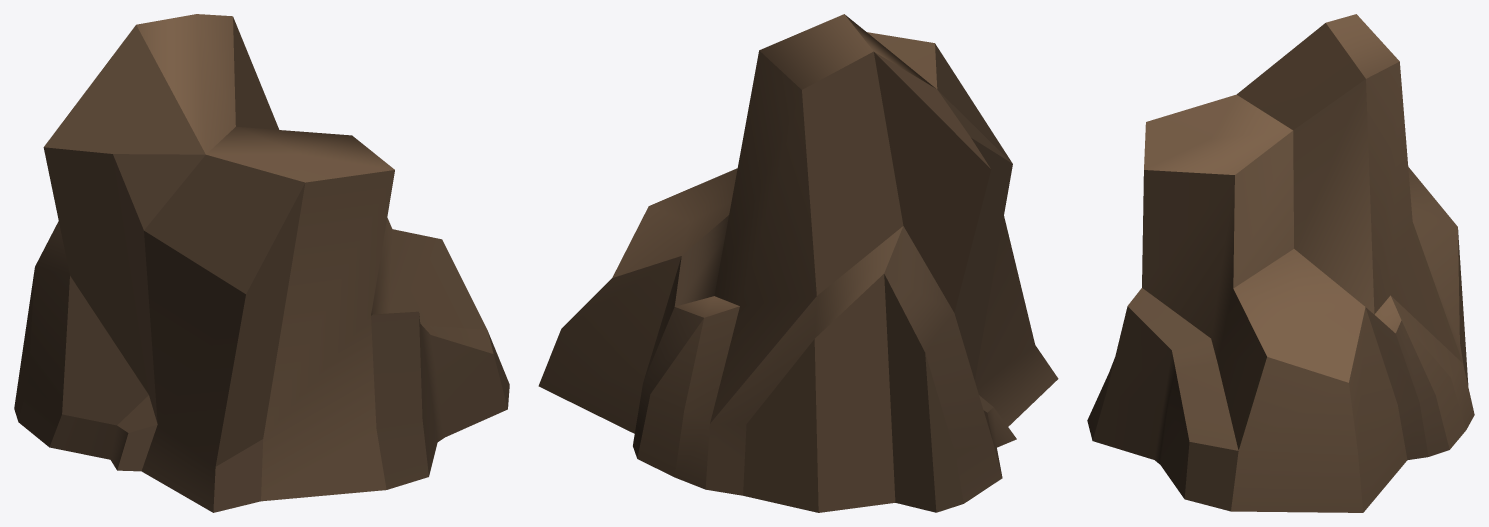
Rendered from Rock_2.fbx.
The picture shows the model from 3 angles, left to right: view 1: azimuth 30°, elevation 25°; view 2: azimuth 150°, elevation 25°; view 3: azimuth 270°, elevation 25°; orthographic projection. The views are drawn at different scales.
Parts seen in each view (by area): view 1: Rock_2; view 2: Rock_2; view 3: Rock_2.
Boxes of the visible parts, x1,y1,x2,y2 form: Rock_2: [14, 14, 509, 512]; Rock_2: [538, 14, 1058, 512]; Rock_2: [1087, 14, 1474, 512].
Bounding box in the file's own units: 416 × 383 × 364.
1 material, 1 textured.
